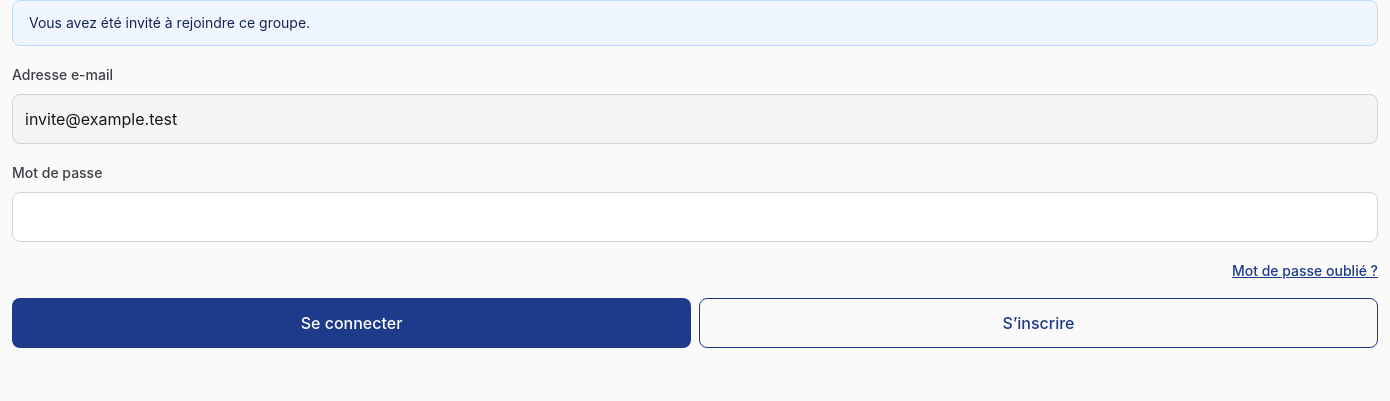
Inscription par invitation › affiche l’erreur de compte existant sans proposer d’alternative de repli
The image size is (1390, 401).
Check: the field labelled "Adresse e-mail" holds "invite@example.test", box left=12, top=94, right=1378, bottom=144
Type "motdepasse-test" into the password field labelled "Mot de passe" at (695, 217), box left=12, top=192, right=1378, bottom=242
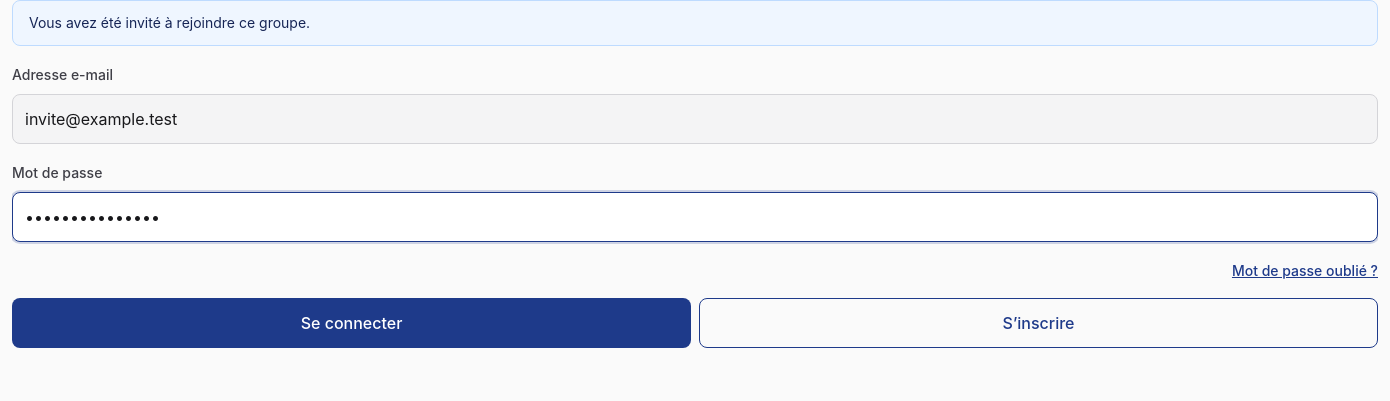
Click the button "S’inscrire" at (1038, 323), box left=699, top=298, right=1378, bottom=348
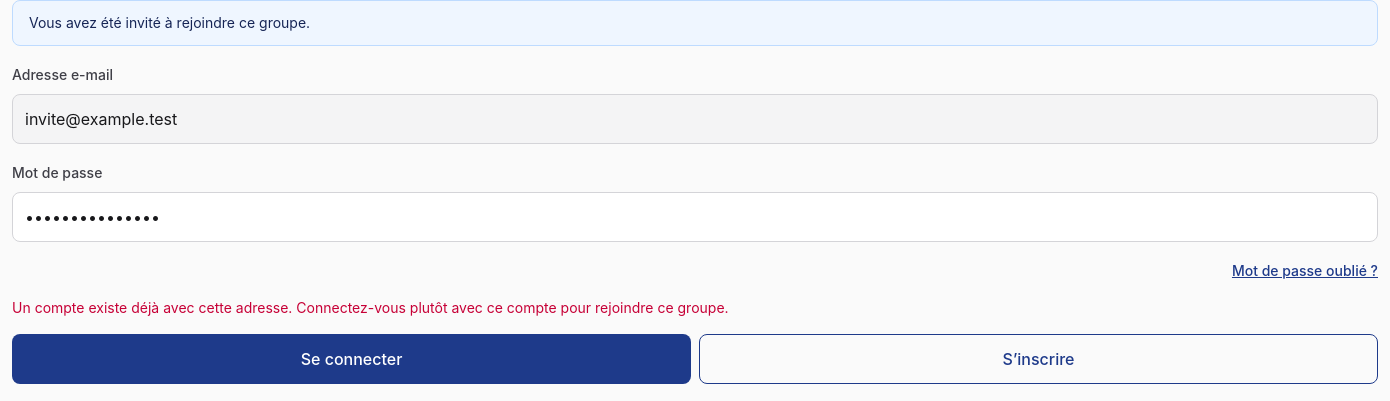
Check: the button "Se connecter" is enabled, box left=12, top=334, right=691, bottom=384
Check: the 2nd message shows "Un compte existe déjà avec cette adresse.", box left=12, top=299, right=729, bottom=316
